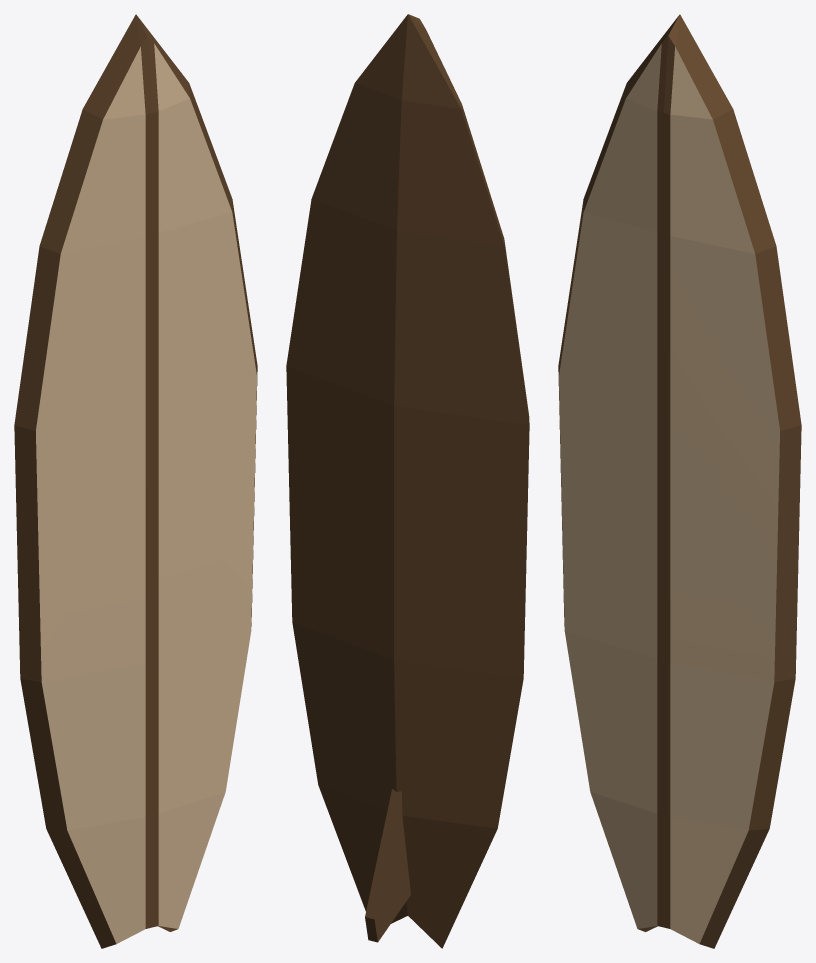
The model's file is surf.glb.
3 views of the same model, side by side, from view 1: azimuth 30°, elevation 25°; view 2: azimuth 150°, elevation 25°; view 3: azimuth 330°, elevation 25° (orthographic).
Parts seen in each view (by area): view 1: surf; view 2: surf; view 3: surf.
Part boxes in pixels (x1=…): surf: x1=14, y1=14, x2=257, y2=948; surf: x1=286, y1=14, x2=529, y2=948; surf: x1=558, y1=14, x2=801, y2=948.
Bounding box in the file's own units: 0.7545 × 2.75 × 0.2921.
1 material, 1 textured.
